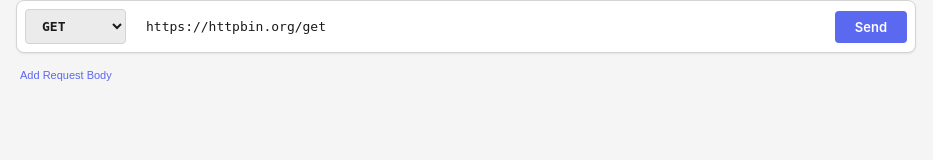
Scenario: RequestBuilder component › disables send button when URL is cleared
The image size is (933, 160).
Clear the field named "request url" at [480, 26], box x1=134 y1=11 x2=827 y2=42
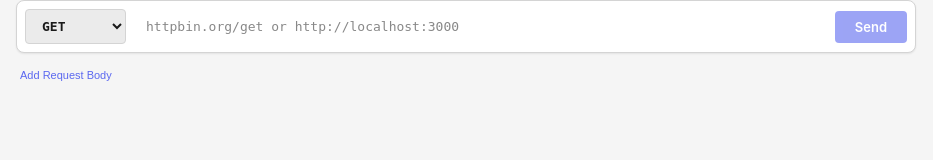
Check: the button "Send" is disabled, box x1=835 y1=10 x2=907 y2=42
